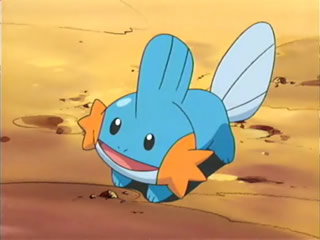mudkip: (77, 18, 279, 204)
